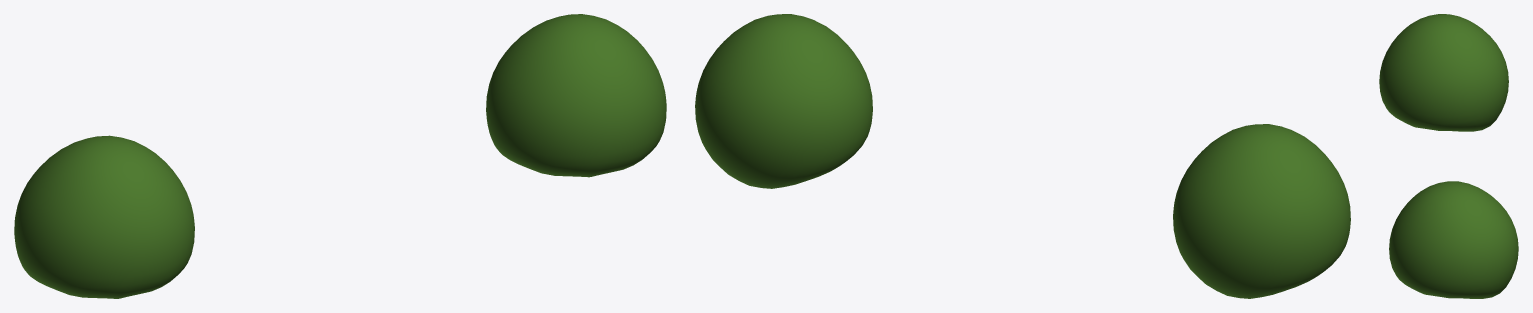
The model's file is Group_tree_4.fbx.
The picture shows the model from 3 angles, left to right: view 1: azimuth 30°, elevation 25°; view 2: azimuth 150°, elevation 25°; view 3: azimuth 270°, elevation 25°; orthographic projection. The views are drawn at different scales.
Visible parts, largest first — view 1: Icosphere.014, Icosphere.020; view 2: Icosphere.014, Icosphere.020; view 3: Icosphere.014, Icosphere.020.
Part boxes in pixels (x1,y1,x2,y2): Icosphere.014: (486, 14, 666, 177); Icosphere.020: (14, 135, 194, 298); Icosphere.014: (695, 14, 872, 188); Icosphere.020: (1173, 124, 1350, 298); Icosphere.014: (1389, 181, 1518, 298); Icosphere.020: (1379, 14, 1508, 131).
Bounding box in the file's own units: 441 × 99.35 × 117.
